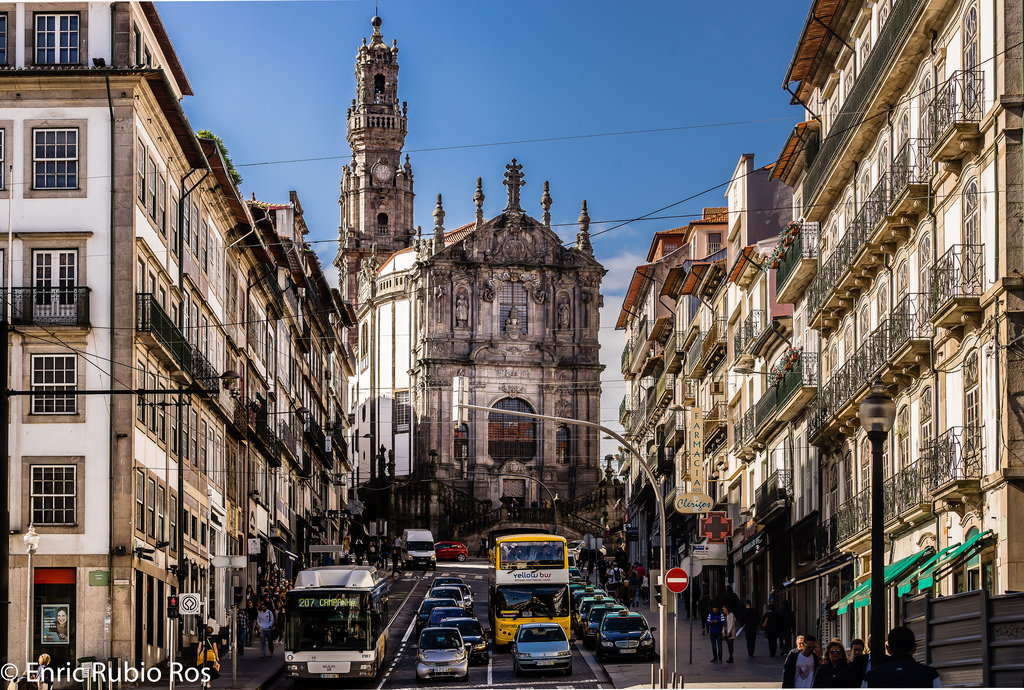clerigos: (332, 0, 420, 270)
